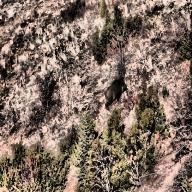boar: (105, 73, 130, 116)
